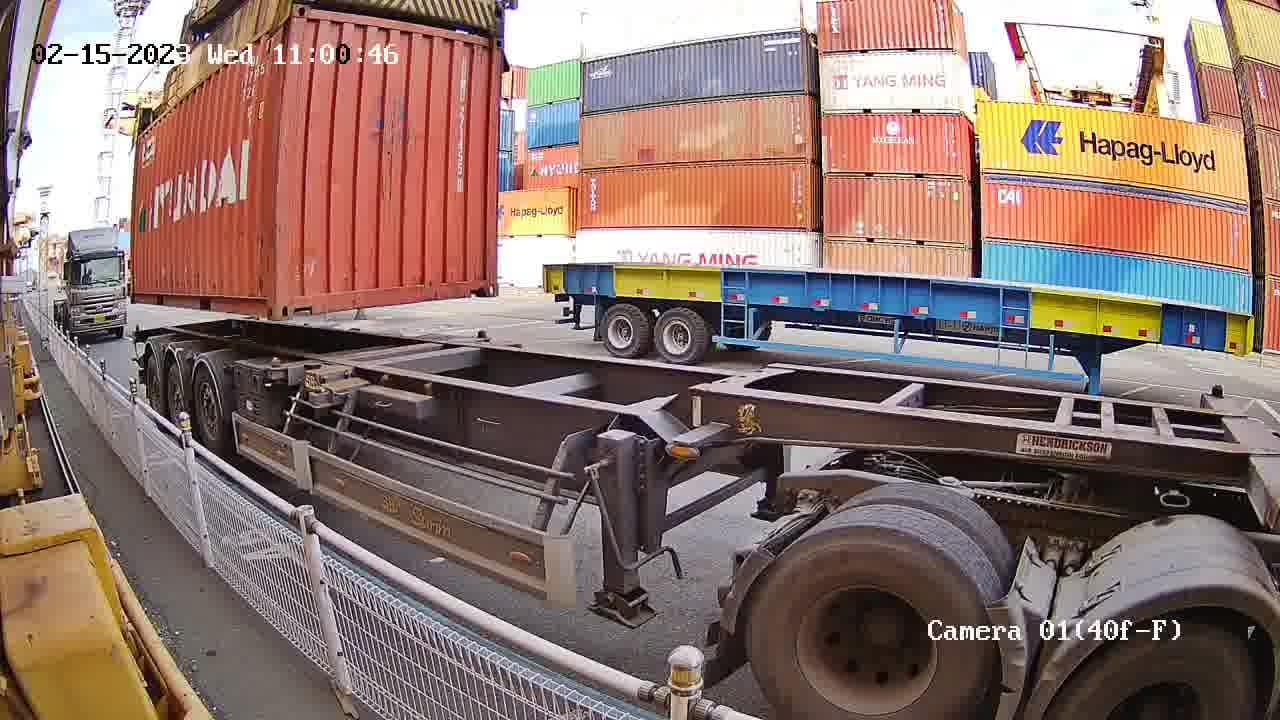Cone: (266, 355, 284, 381), (471, 326, 490, 345)
Hole_L: (279, 267, 318, 320)
Hole_R: (461, 258, 498, 299), (247, 272, 277, 319)
Tire: (743, 522, 996, 716), (1055, 635, 1262, 714), (188, 374, 223, 446), (167, 367, 185, 413), (144, 362, 161, 406)
